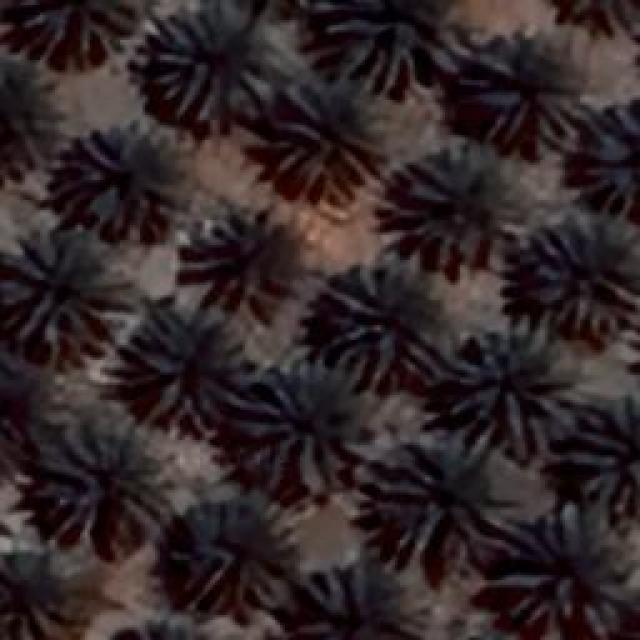PalmTree: (103, 94, 436, 508), (94, 16, 593, 94), (372, 142, 520, 270), (494, 507, 638, 635), (315, 255, 450, 390), (440, 320, 575, 455), (32, 410, 172, 540), (230, 367, 368, 495), (142, 0, 280, 125), (0, 225, 125, 350), (130, 302, 252, 430), (262, 80, 382, 205), (65, 120, 190, 238), (460, 32, 585, 150), (320, 0, 470, 95), (175, 498, 295, 612), (178, 200, 292, 318), (530, 222, 635, 336), (300, 552, 432, 638), (568, 395, 638, 515), (0, 545, 80, 640), (574, 100, 638, 218), (15, 0, 135, 62), (0, 66, 58, 192), (0, 354, 40, 466), (92, 616, 222, 640)
